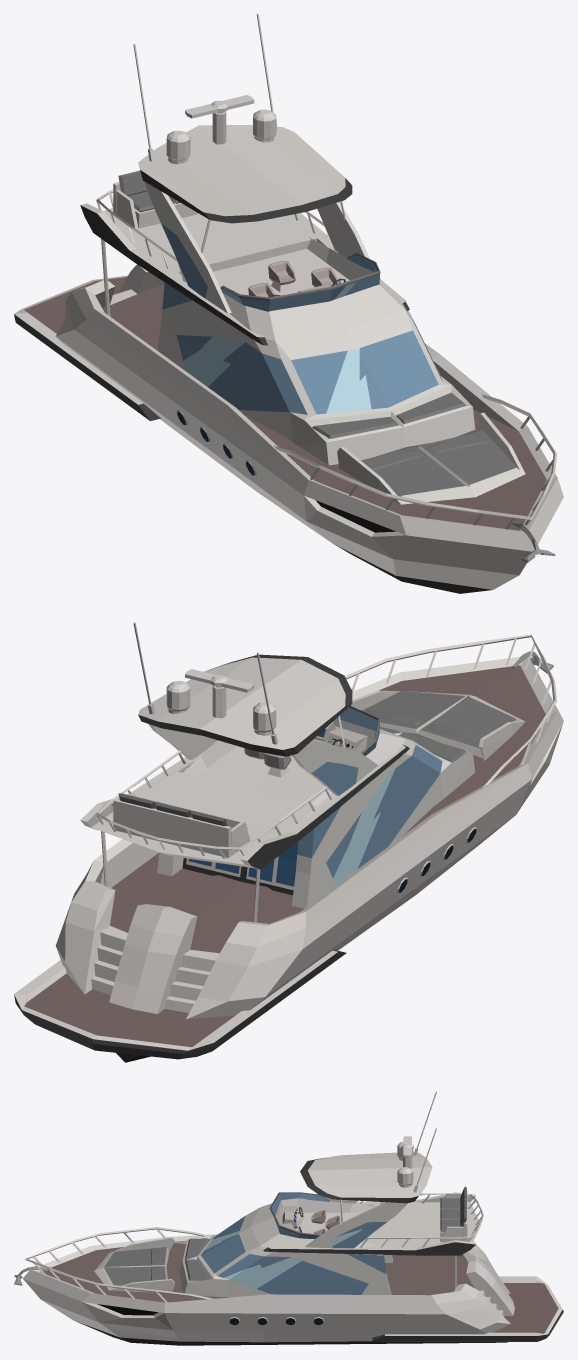
Rendered from Yacht Small B.fbx.
The picture shows the model from 3 angles, top to bottom: view 1: azimuth 30°, elevation 25°; view 2: azimuth 150°, elevation 25°; view 3: azimuth 270°, elevation 25°; orthographic projection. The views are drawn at different scales.
Parts seen in each view (by area): view 1: Yacht Small B; view 2: Yacht Small B; view 3: Yacht Small B.
Part boxes in pixels (x1,y1,x2,y2): Yacht Small B: (14, 14, 563, 593); Yacht Small B: (14, 622, 563, 1062); Yacht Small B: (14, 1091, 563, 1345).
Size of the model in its own units: 540 by 855 by 1840.
